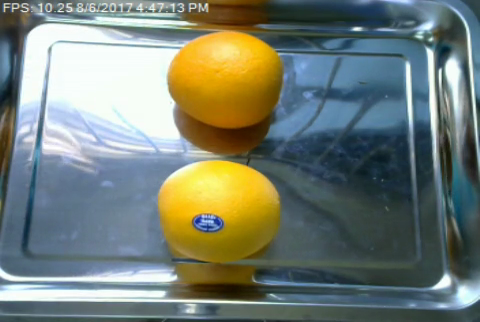Orange: (156, 159, 282, 262), (165, 30, 282, 127)
